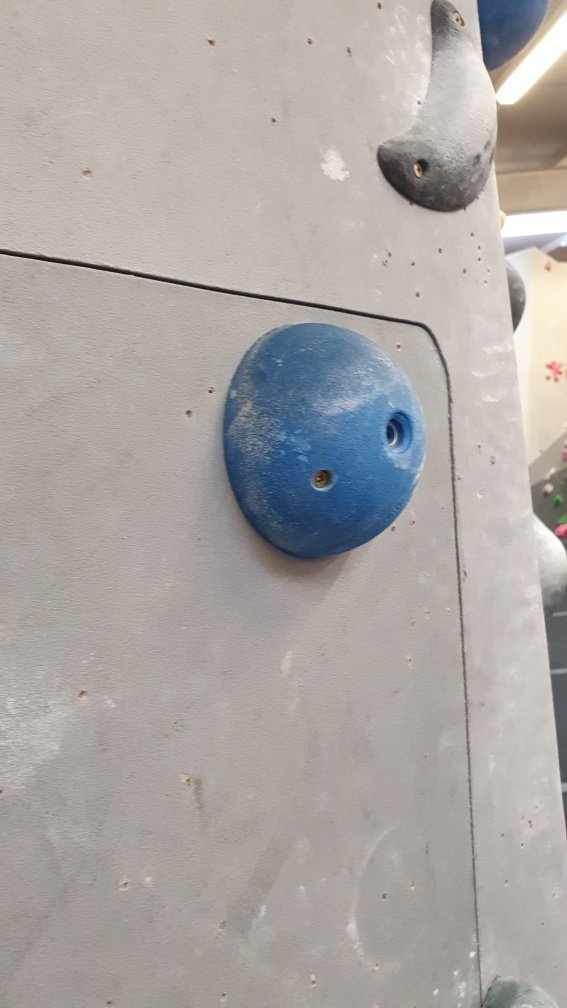Sloper: (217, 319, 430, 567)
